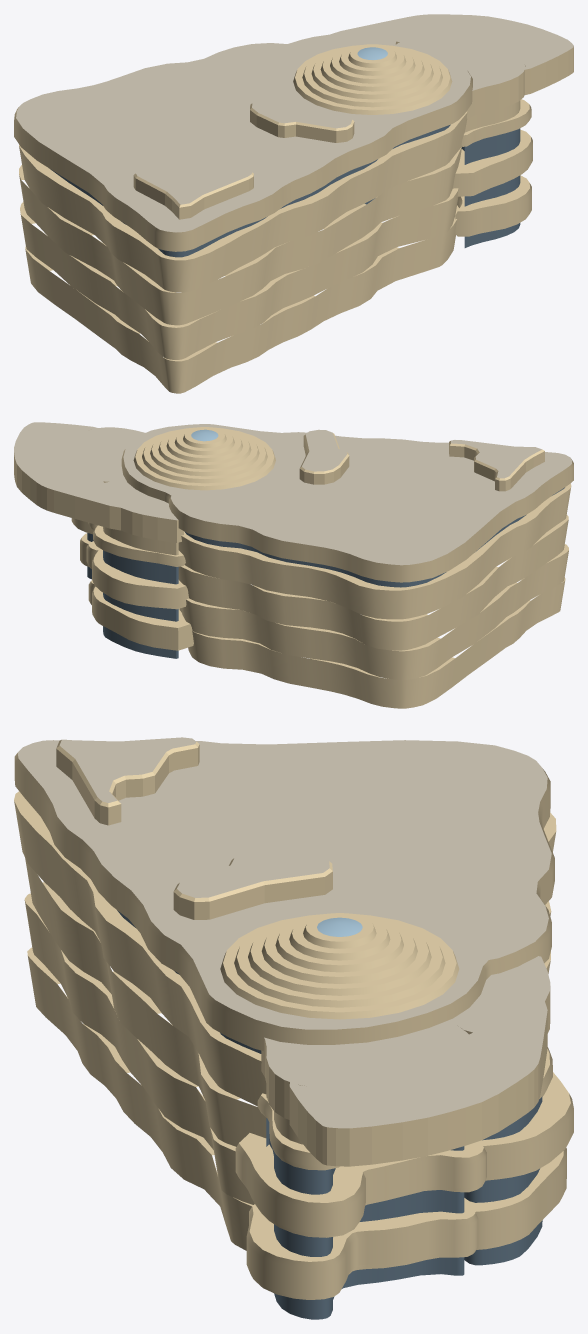
File: dc-american-indian.glb
3 renders of one model, top to bottom at view 1: azimuth 30°, elevation 25°; view 2: azimuth 150°, elevation 25°; view 3: azimuth 270°, elevation 25°, orthographic. The views are drawn at different scales.
Parts seen in each view (by area): view 1: National Museum of the American Indian; view 2: National Museum of the American Indian; view 3: National Museum of the American Indian.
Boxes of the visible parts, x1,y1,x2,y2 form: National Museum of the American Indian: (14, 14, 573, 393); National Museum of the American Indian: (14, 422, 573, 708); National Museum of the American Indian: (14, 737, 573, 1319).
Bounding box in the file's own units: 116 × 42.6 × 73.09.
